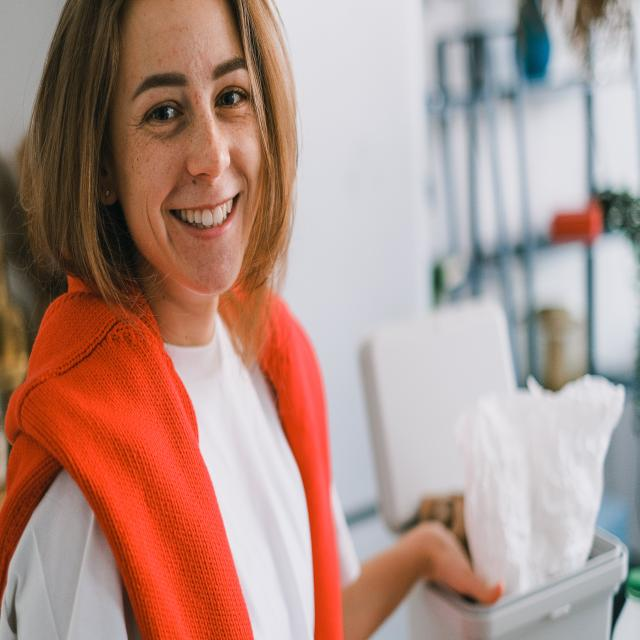trash: (474, 404, 586, 557)
